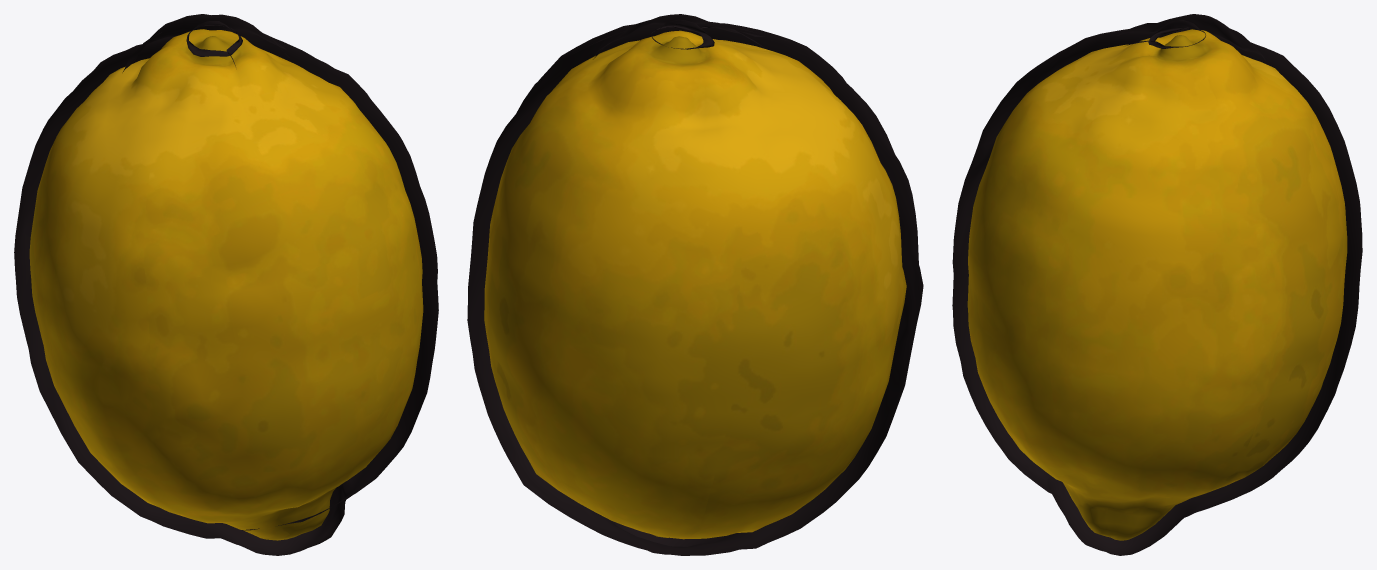
File: SM_Int_Lemon.fbx
The picture shows the model from 3 angles, left to right: view 1: azimuth 30°, elevation 25°; view 2: azimuth 150°, elevation 25°; view 3: azimuth 270°, elevation 25°; orthographic projection. The views are drawn at different scales.
Visible parts, largest first — view 1: SM_Int_Lemon; view 2: SM_Int_Lemon; view 3: SM_Int_Lemon.
Part boxes in pixels (bbox=[...]): SM_Int_Lemon: bbox=[14, 14, 438, 555]; SM_Int_Lemon: bbox=[467, 14, 923, 555]; SM_Int_Lemon: bbox=[952, 14, 1362, 555].
Size of the model in its own units: 0.0741 by 0.1008 by 0.0737.
